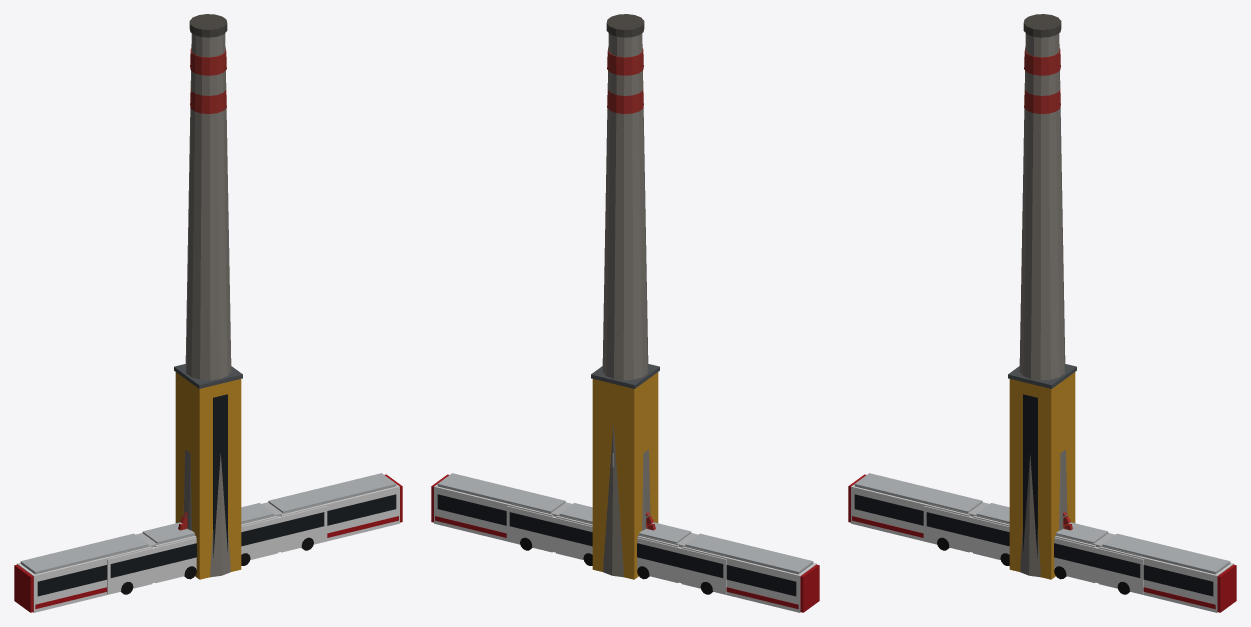
Rendered from campus.glb.
The picture shows the model from 3 angles, left to right: view 1: azimuth 30°, elevation 25°; view 2: azimuth 150°, elevation 25°; view 3: azimuth 330°, elevation 25°; orthographic projection.
Visible parts, largest first — view 1: schornstein, tram, treppenturm, gelenkbus; view 2: schornstein, tram, treppenturm, gelenkbus; view 3: schornstein, tram, treppenturm, gelenkbus.
Boxes of the visible parts, bbox=[...] form: schornstein: bbox=[183, 14, 231, 577]; tram: bbox=[14, 473, 402, 612]; treppenturm: bbox=[174, 364, 242, 579]; gelenkbus: bbox=[107, 502, 327, 594]; schornstein: bbox=[602, 14, 650, 577]; tram: bbox=[431, 473, 819, 612]; treppenturm: bbox=[591, 364, 659, 579]; gelenkbus: bbox=[506, 502, 726, 594]; schornstein: bbox=[1019, 14, 1067, 577]; tram: bbox=[848, 473, 1236, 612]; treppenturm: bbox=[1008, 364, 1076, 579]; gelenkbus: bbox=[923, 502, 1143, 594].
Bounding box in the file's own units: 30.5 × 42.6 × 3.8.
